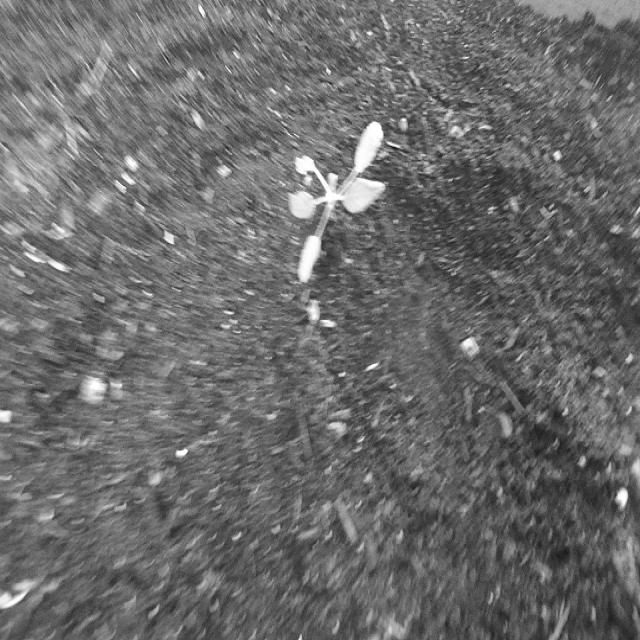Healthy: (282, 98, 398, 303)
